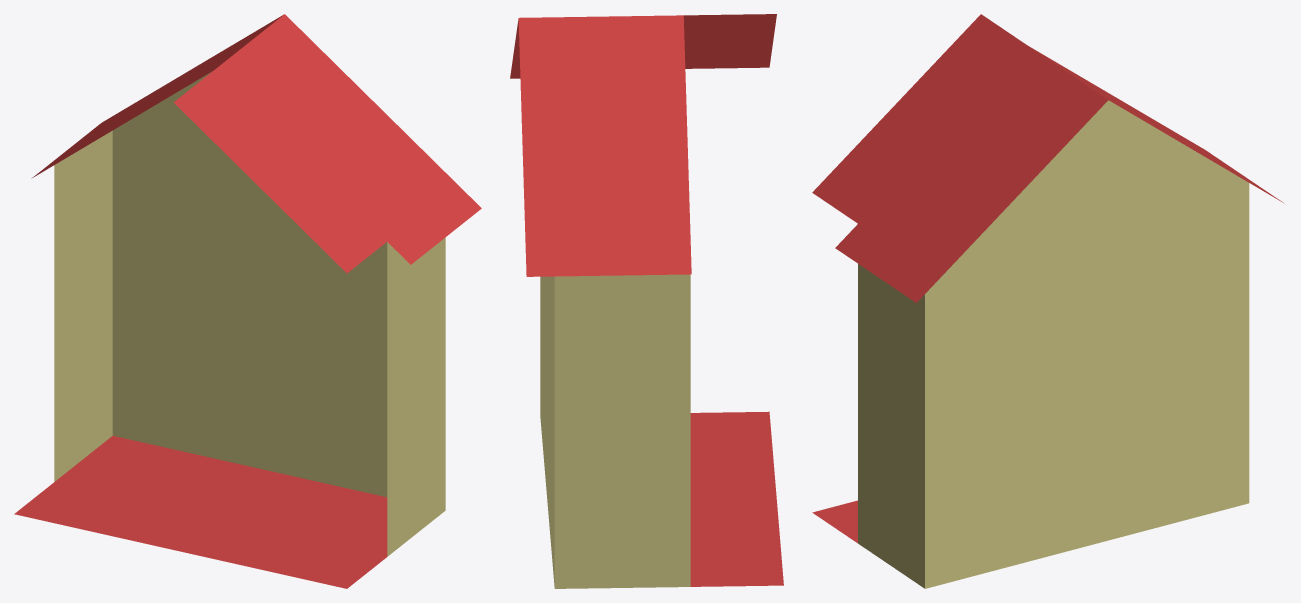
3 views of the same model, side by side, from view 1: azimuth 30°, elevation 25°; view 2: azimuth 150°, elevation 25°; view 3: azimuth 270°, elevation 25° (orthographic). The views are drawn at different scales.
Bounding box in the file's own units: 11.64 × 13.13 × 13.85.
